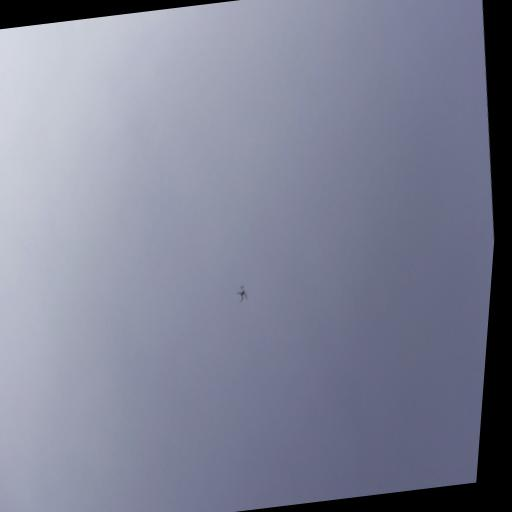drones: (234, 283, 250, 305)
